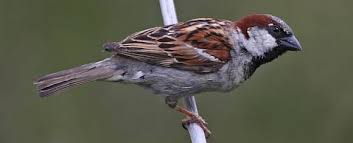hsparrow: (30, 7, 312, 132)
